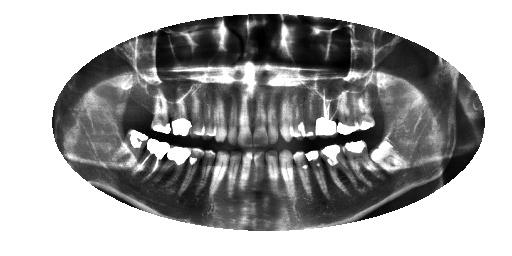Fillings: (345, 138, 378, 188), (322, 139, 351, 195), (163, 144, 189, 190), (305, 148, 325, 200), (168, 97, 192, 139), (117, 126, 145, 161), (356, 86, 377, 131), (337, 87, 356, 135), (151, 99, 172, 134), (299, 86, 313, 138)
Implant: (138, 137, 166, 184), (313, 87, 337, 138)
